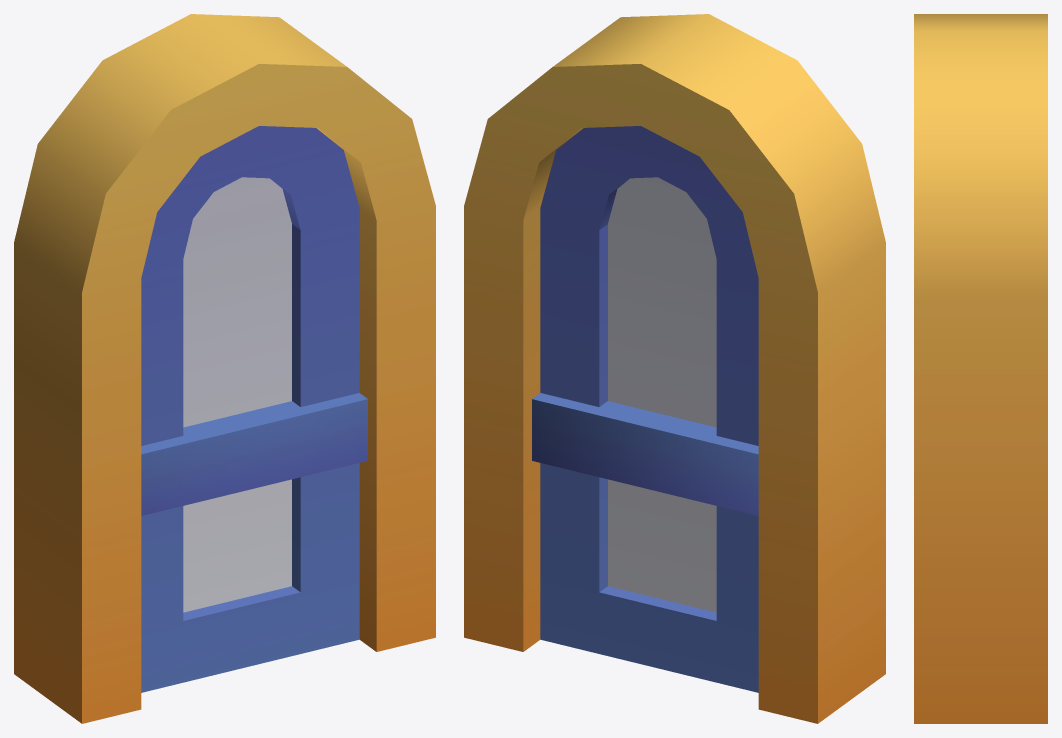
Rendered from kenney-platformer-door-rotate.glb.
The picture shows the model from 3 angles, left to right: view 1: azimuth 30°, elevation 25°; view 2: azimuth 150°, elevation 25°; view 3: azimuth 270°, elevation 25°; orthographic projection.
Visible parts, largest first — view 1: door-rotate, door; view 2: door-rotate, door; view 3: door-rotate.
Part boxes in pixels (box(x1,y1,x2,y2)): door-rotate: box(14, 14, 435, 723); door: box(141, 126, 367, 692); door-rotate: box(464, 14, 885, 723); door: box(532, 126, 758, 692); door-rotate: box(914, 14, 1047, 723).
Bounding box in the file's own units: 0.6001 × 1 × 0.2.
Materials: 1 (1 with a texture image).
